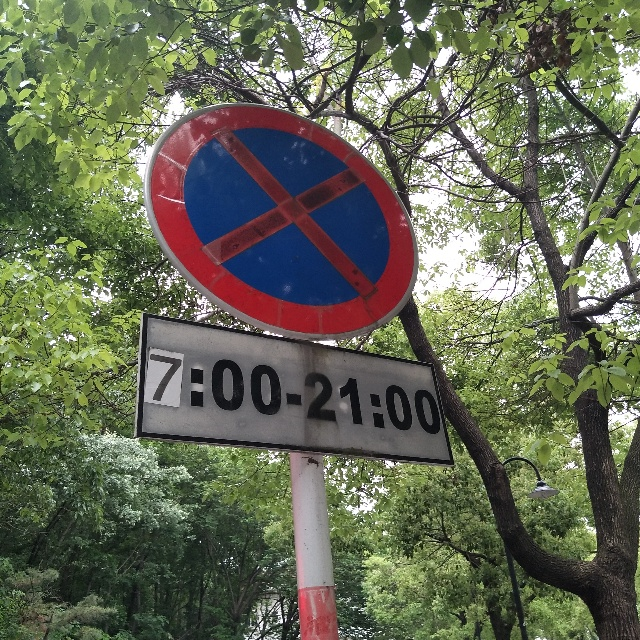stop: (142, 100, 423, 342)
